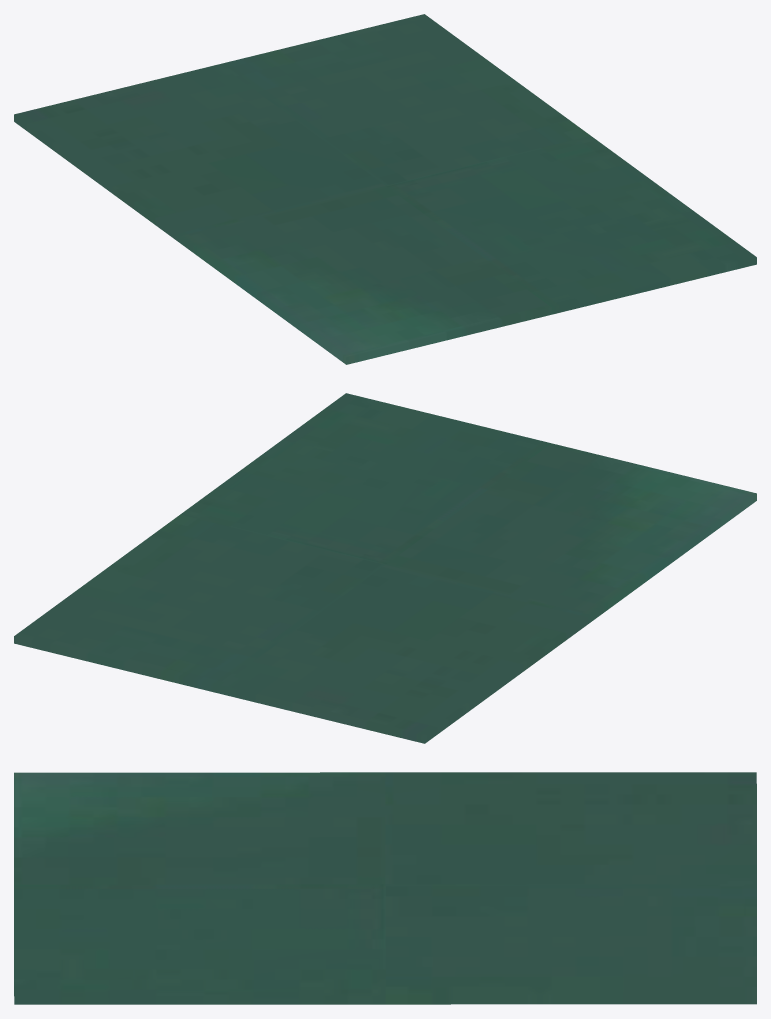
3 renders of one model, top to bottom at view 1: azimuth 30°, elevation 25°; view 2: azimuth 150°, elevation 25°; view 3: azimuth 270°, elevation 25°, orthographic. The views are drawn at different scales.
Parts seen in each view (by area): view 1: 3043627270437063572_0; view 2: 3043627270437063572_0; view 3: 3043627270437063572_0.
Part boxes in pixels (x1,y1,x2,y2): 3043627270437063572_0: [14, 14, 756, 364]; 3043627270437063572_0: [14, 393, 756, 743]; 3043627270437063572_0: [14, 772, 756, 1004].
Bounding box in the file's own units: 54.63 × 0.9602 × 76.53.
Materials: 1 (1 with a texture image).
